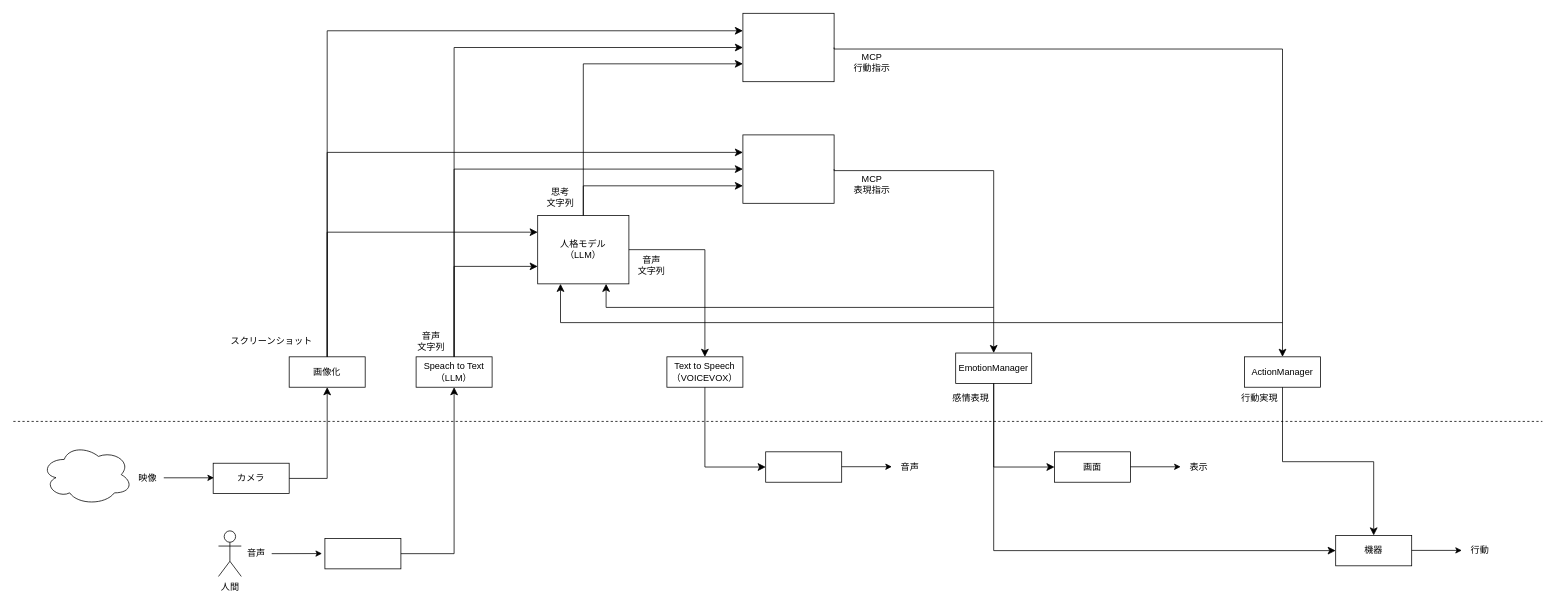
The diagram is 1556 pixels wide and 606 high, and some of its shapes have lost their labels. The shapes that lost their labels are listed below. From the top down, each one's centre as x and y in pixels, then its label:
At point (788, 47): "行動選択モデル （LLM）".
At point (788, 168): "感情表現モデル （LLM）".
At point (87, 474): "環境".
At point (803, 466): "スピーカー".
At point (362, 553): "マイク".
